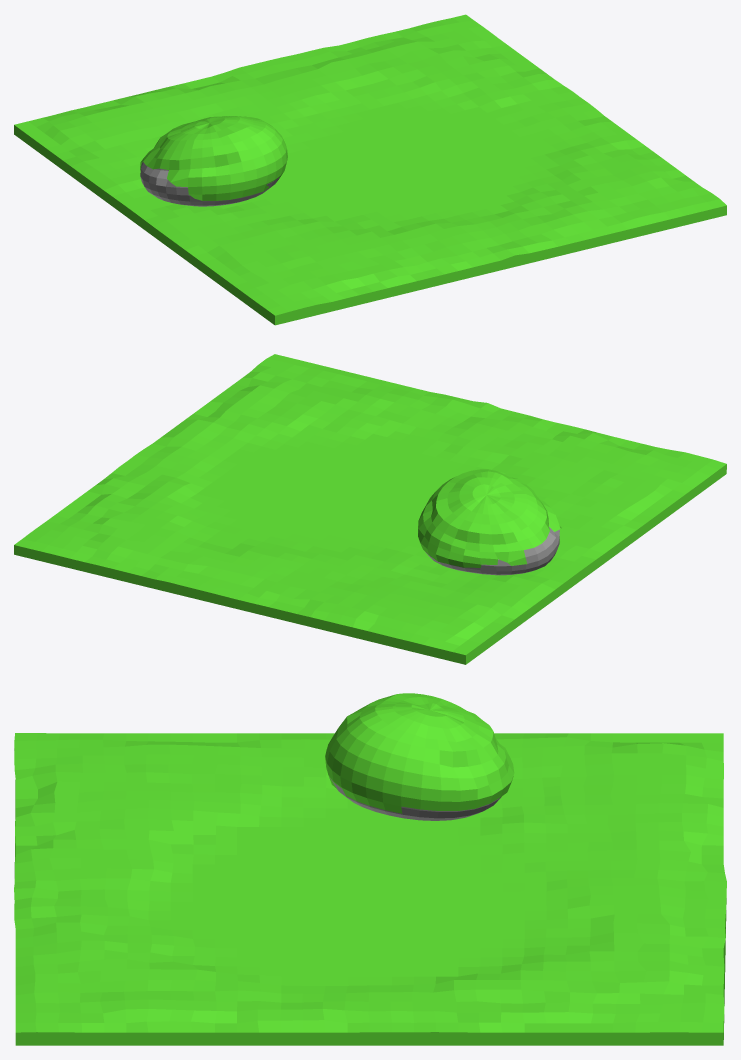
File: rock_under_ground.glb
3 views of the same model, one above another, from view 1: azimuth 30°, elevation 25°; view 2: azimuth 150°, elevation 25°; view 3: azimuth 270°, elevation 25° (orthographic). The views are drawn at different scales.
Visible parts, largest first — view 1: dirt, moss1.002, small rock.002; view 2: dirt, moss1.002, small rock.002; view 3: dirt, moss1.002, small rock.002.
Boxes of the visible parts, x1,y1,x2,y2 form: dirt: [14, 14, 726, 325]; moss1.002: [140, 116, 287, 200]; small rock.002: [140, 162, 279, 206]; dirt: [14, 354, 726, 664]; moss1.002: [418, 469, 561, 567]; small rock.002: [425, 527, 559, 575]; dirt: [14, 733, 726, 1045]; moss1.002: [325, 693, 514, 813]; small rock.002: [329, 777, 501, 820].
Size of the model in its own units: 3.8 by 0.599 by 3.82.
